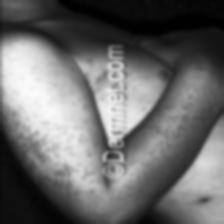Toxin: (183, 186, 224, 208), (37, 134, 69, 152)
